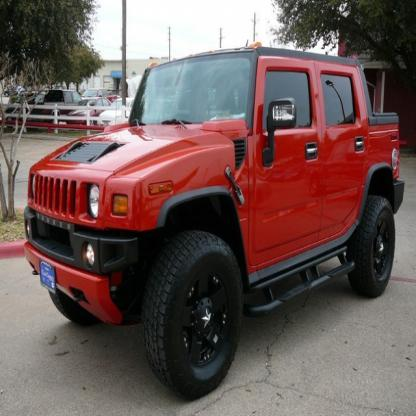Vehicle: (22, 40, 406, 402)
